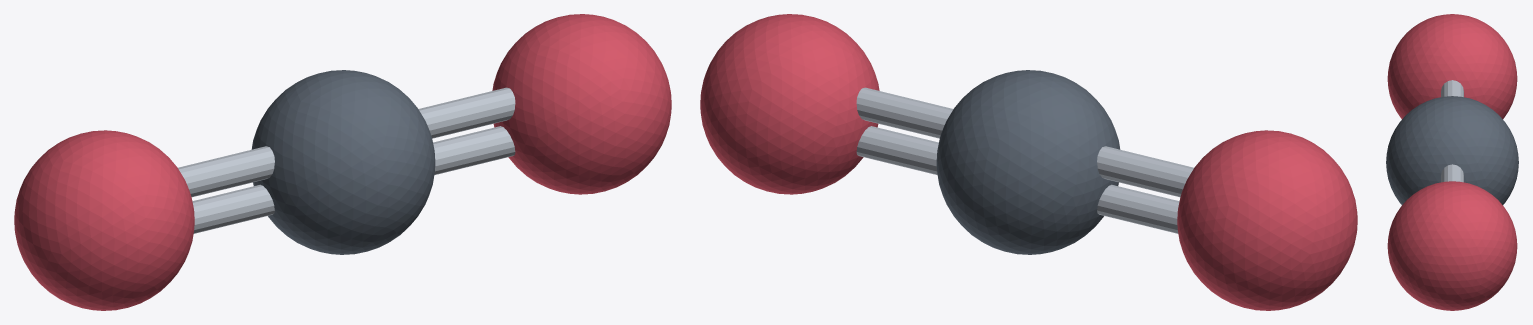
File: molecula.glb
The picture shows the model from 3 angles, left to right: view 1: azimuth 30°, elevation 25°; view 2: azimuth 150°, elevation 25°; view 3: azimuth 270°, elevation 25°; orthographic projection. The views are drawn at different scales.
Parts seen in each view (by area): view 1: 2_C, 1_O, 3_O, world; view 2: 2_C, 1_O, 3_O, world; view 3: 3_O, 2_C, 1_O, world.
Boxes of the visible parts, box(x1,y1,x2,y2) form: 2_C: box(251, 70, 435, 254); 1_O: box(14, 130, 194, 310); 3_O: box(492, 14, 671, 194); world: box(178, 87, 515, 233); 2_C: box(936, 70, 1120, 254); 1_O: box(1177, 130, 1357, 310); 3_O: box(700, 14, 879, 194); world: box(856, 87, 1193, 233); 3_O: box(1387, 181, 1517, 310); 2_C: box(1386, 96, 1518, 204); 1_O: box(1387, 14, 1517, 118); world: box(1441, 80, 1463, 182).
Bounding box in the file's own units: 3.4 × 0.86 × 0.86.
